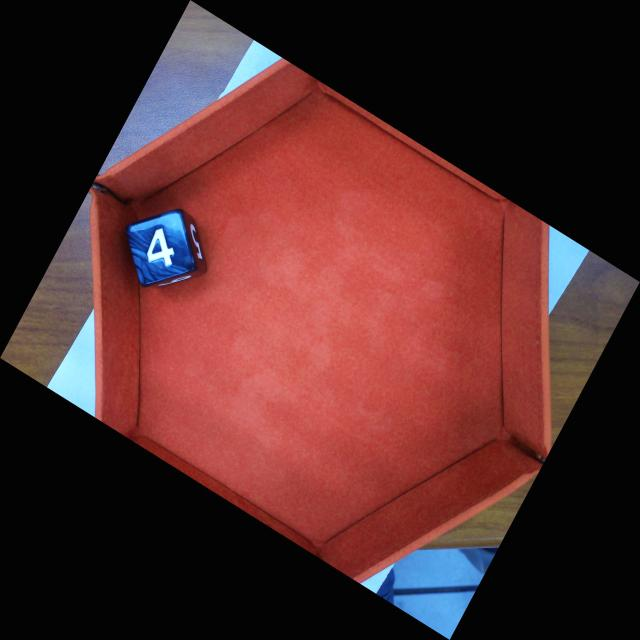dice: (125, 209, 196, 287)
